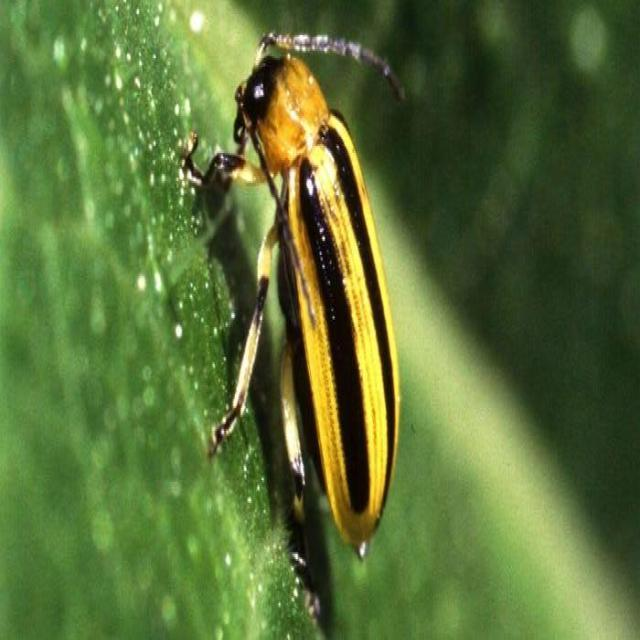trips: (180, 28, 410, 562)
